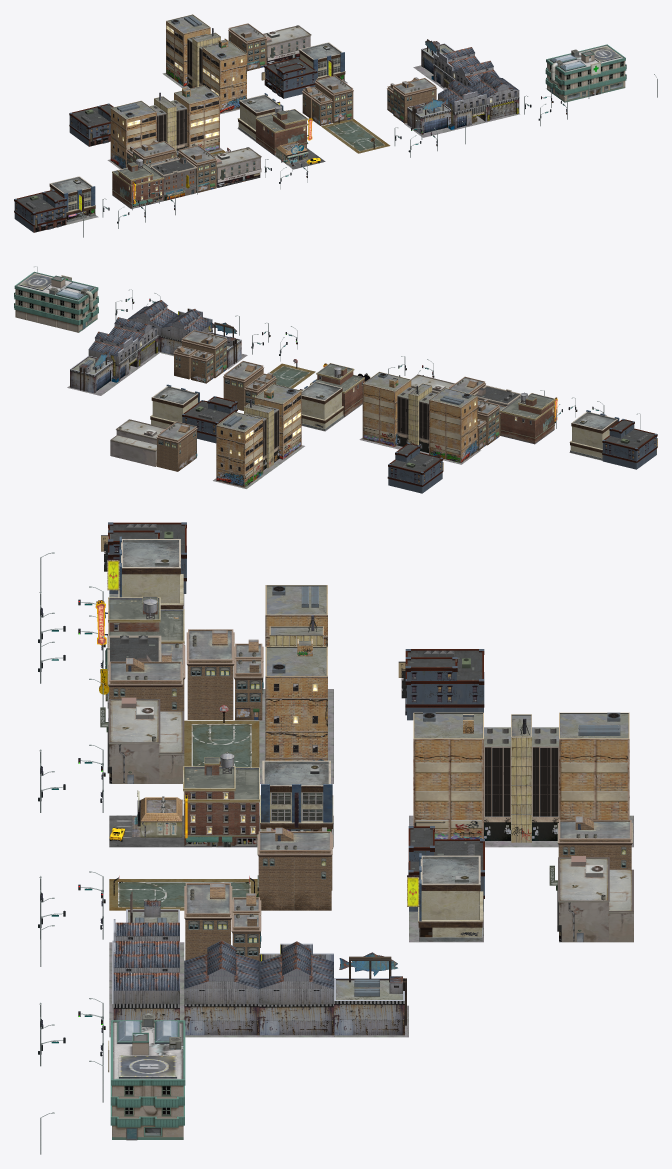
File: barrio_lev3.glb
3 views of the same model, one above another, from view 1: azimuth 30°, elevation 25°; view 2: azimuth 150°, elevation 25°; view 3: azimuth 270°, elevation 25° (orthographic). The views are drawn at different scales.
Visible parts, largest first — view 1: LM_Clinic2, pasted__pCube20_LMProjects_0.002, pasted__pCube27_LMProjects_0.001, Filler_Apartments2, pasted__pCube20_LMProjects_0.001, Filler_Apartments2_FillerBuildings1_0.002, Filler_Apartments2_FillerBuildings1_0.001, LM_Basketball10, pasted__pCube27_LMProjects_0.002, pasted__pCube1_FishFactory_0, pCube6, pCube6_Paramount_0.002 (+28 smaller); view 2: LM_Clinic2, pasted__pCube27_LMProjects_0.001, pasted__pCube27_LMProjects_0.002, pasted__pCube20_LMProjects_0.001, Filler_Apartments2_FillerBuildings1_0.001, Filler_Apartments2, Filler_Apartments2_FillerBuildings1_0.002, pasted__pCube20_LMProjects_0.002, pasted__pCube1_FishFactory_0.001, pCube31_FillerBuildings1_0.001, pasted__pCube19_LMProjects_0.001, pasted__pCube19_LMProjects_0.002 (+28 smaller); view 3: LM_Clinic2, pasted__pCube20_LMProjects_0.002, pasted__pCube27_LMProjects_0.002, pasted__pCube20_LMProjects_0.001, Filler_Apartments2_FillerBuildings1_0.001, Filler_SalsT8_group8_pCube11, pasted__pCube2_FishFactory_0.001, pasted__pCube3_FishFactory_0.001, pasted__pCube1_FishFactory_0.001, LM_Basketball11, pasted__pCube18_LMProjects_0.002, pasted__pCube26_LMProjects_0.002 (+38 smaller).
Part boxes in pixels (bbox=[...]): LM_Clinic2: bbox=[545, 44, 626, 102]; pasted__pCube20_LMProjects_0.002: bbox=[202, 41, 246, 100]; pasted__pCube27_LMProjects_0.001: bbox=[110, 100, 156, 159]; Filler_Apartments2: bbox=[14, 189, 66, 232]; pasted__pCube20_LMProjects_0.001: bbox=[174, 85, 219, 144]; Filler_Apartments2_FillerBuildings1_0.002: bbox=[261, 57, 317, 98]; Filler_Apartments2_FillerBuildings1_0.001: bbox=[69, 103, 113, 146]; LM_Basketball10: bbox=[321, 114, 390, 153]; pasted__pCube27_LMProjects_0.002: bbox=[166, 14, 210, 74]; pasted__pCube1_FishFactory_0: bbox=[407, 103, 451, 134]; pCube6: bbox=[117, 166, 153, 203]; pCube6_Paramount_0.002: bbox=[272, 109, 307, 143]; LM_Clinic2: bbox=[14, 271, 98, 332]; pasted__pCube27_LMProjects_0.001: bbox=[429, 388, 477, 450]; pasted__pCube27_LMProjects_0.002: bbox=[216, 412, 263, 474]; pasted__pCube20_LMProjects_0.001: bbox=[362, 371, 411, 433]; Filler_Apartments2_FillerBuildings1_0.001: bbox=[387, 442, 443, 493]; Filler_Apartments2: bbox=[602, 419, 657, 469]; Filler_Apartments2_FillerBuildings1_0.002: bbox=[182, 396, 237, 443]; pasted__pCube20_LMProjects_0.002: bbox=[254, 383, 301, 446]; pasted__pCube1_FishFactory_0.001: bbox=[70, 355, 112, 393]; pCube31_FillerBuildings1_0.001: bbox=[110, 435, 156, 460]; pasted__pCube19_LMProjects_0.001: bbox=[408, 383, 431, 444]; pasted__pCube19_LMProjects_0.002: bbox=[244, 403, 273, 468]; LM_Clinic2: bbox=[108, 1013, 185, 1140]; pasted__pCube20_LMProjects_0.002: bbox=[413, 712, 483, 819]; pasted__pCube27_LMProjects_0.002: bbox=[559, 712, 629, 819]; pasted__pCube20_LMProjects_0.001: bbox=[265, 646, 327, 757]; Filler_Apartments2_FillerBuildings1_0.001: bbox=[398, 649, 484, 720]; Filler_SalsT8_group8_pCube11: bbox=[258, 856, 331, 910]; pasted__pCube2_FishFactory_0.001: bbox=[184, 989, 259, 1035]; pasted__pCube3_FishFactory_0.001: bbox=[259, 989, 333, 1035]; pasted__pCube1_FishFactory_0.001: bbox=[334, 978, 404, 1035]; LM_Basketball11: bbox=[184, 705, 259, 767]; pasted__pCube18_LMProjects_0.002: bbox=[484, 727, 510, 840]; pasted__pCube26_LMProjects_0.002: bbox=[532, 727, 558, 840].
Bounding box in the file's own units: 531 × 49.89 × 225.
22 materials, 18 textured.
